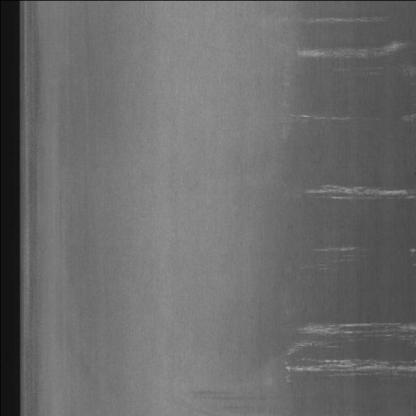waist_folding: (268, 16, 410, 393)
